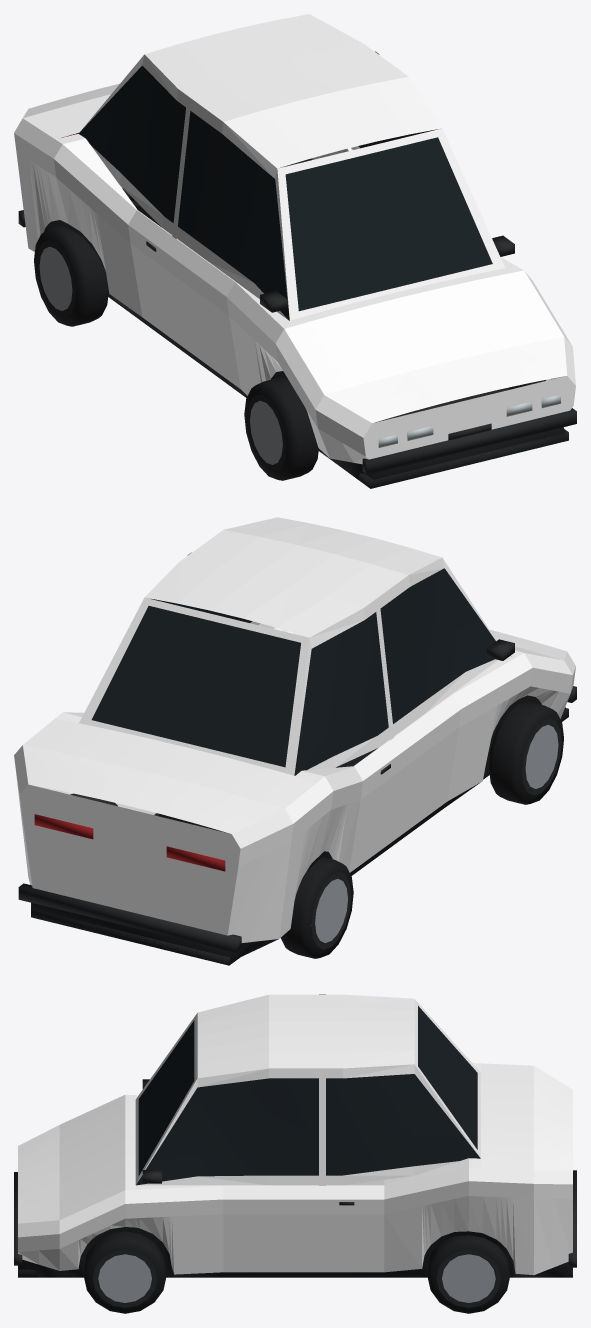
The model's file is ottavo_unoa.glb.
The picture shows the model from 3 angles, top to bottom: view 1: azimuth 30°, elevation 25°; view 2: azimuth 150°, elevation 25°; view 3: azimuth 270°, elevation 25°; orthographic projection. The views are drawn at different scales.
Visible parts, largest first — view 1: Body_Paint, Body_Details, Mount_FrontLeft_Wheel_Details, Mount_RearLeft_Wheel_Details; view 2: Body_Paint, Body_Details, Mount_FrontLeft_Wheel_Details, Mount_RearLeft_Wheel_Details; view 3: Body_Paint, Body_Details, Mount_FrontRight_Wheel_Details, Mount_RearRight_Wheel_Details.
Boxes of the visible parts, bbox=[...] form: Body_Paint: bbox=[14, 14, 575, 464]; Body_Details: bbox=[18, 65, 576, 488]; Mount_FrontLeft_Wheel_Details: bbox=[244, 377, 318, 480]; Mount_RearLeft_Wheel_Details: bbox=[34, 225, 108, 326]; Body_Paint: bbox=[14, 517, 575, 942]; Body_Details: bbox=[18, 568, 576, 965]; Mount_FrontLeft_Wheel_Details: bbox=[489, 701, 563, 804]; Mount_RearLeft_Wheel_Details: bbox=[281, 857, 353, 958]; Body_Paint: bbox=[18, 994, 572, 1275]; Body_Details: bbox=[14, 1006, 576, 1277]; Mount_FrontRight_Wheel_Details: bbox=[83, 1231, 166, 1313]; Mount_RearRight_Wheel_Details: bbox=[427, 1235, 510, 1313].
Bounding box in the file's own units: 1.75 × 1.7 × 3.73.
2 materials, 1 textured.
